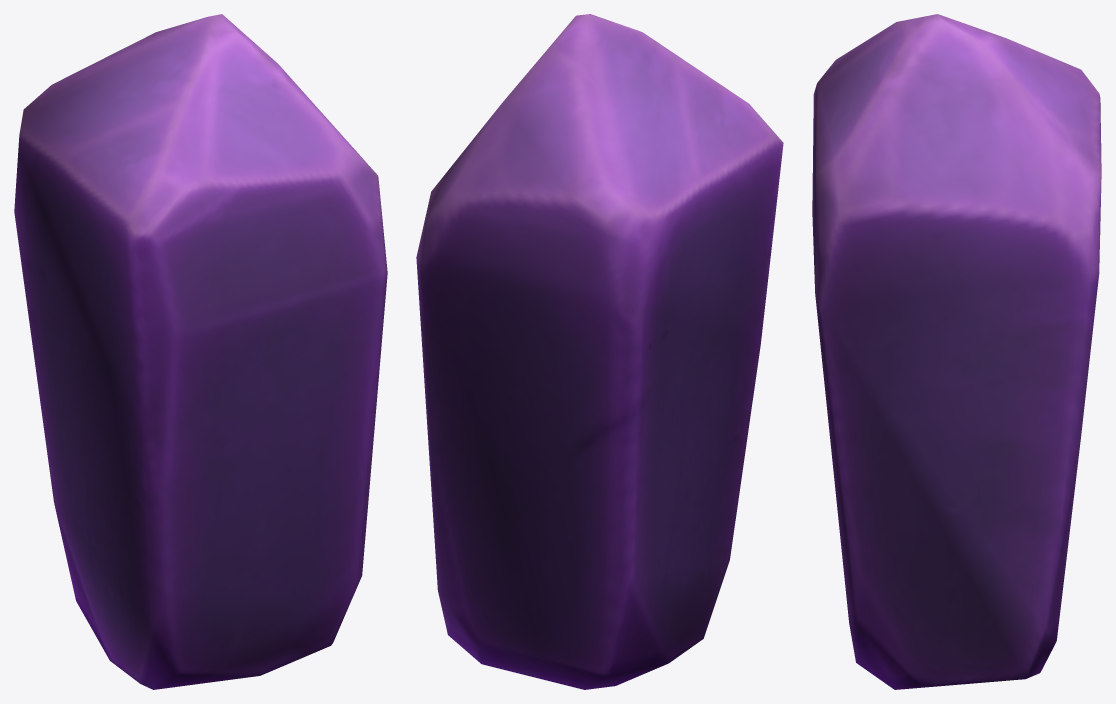
File: SM_Gem_Amethyst_006.fbx
3 views of the same model, side by side, from view 1: azimuth 30°, elevation 25°; view 2: azimuth 150°, elevation 25°; view 3: azimuth 270°, elevation 25° (orthographic).
Visible parts, largest first — view 1: SM_Gem_Amethyst_006; view 2: SM_Gem_Amethyst_006; view 3: SM_Gem_Amethyst_006.
Part boxes in pixels (box(x1,y1,x2,y2)): SM_Gem_Amethyst_006: box(14, 14, 387, 689); SM_Gem_Amethyst_006: box(416, 14, 783, 689); SM_Gem_Amethyst_006: box(812, 14, 1101, 689).
Size of the model in its own units: 14.55 by 34.5 by 14.31.
